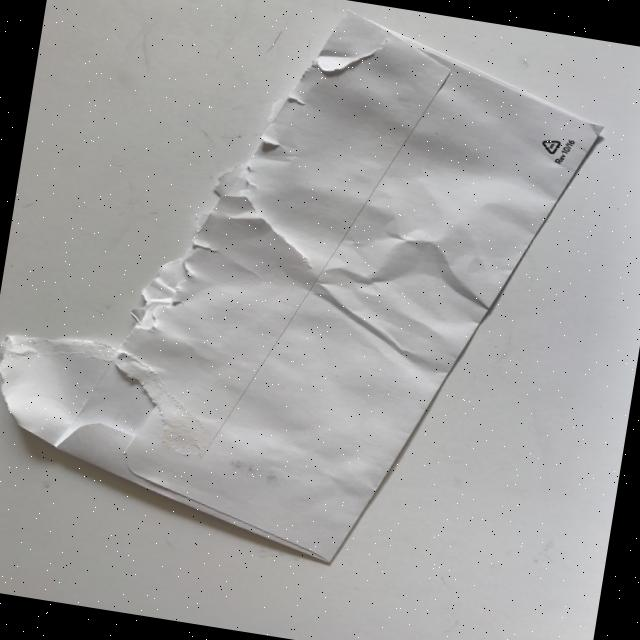paper: (0, 0, 618, 597)
